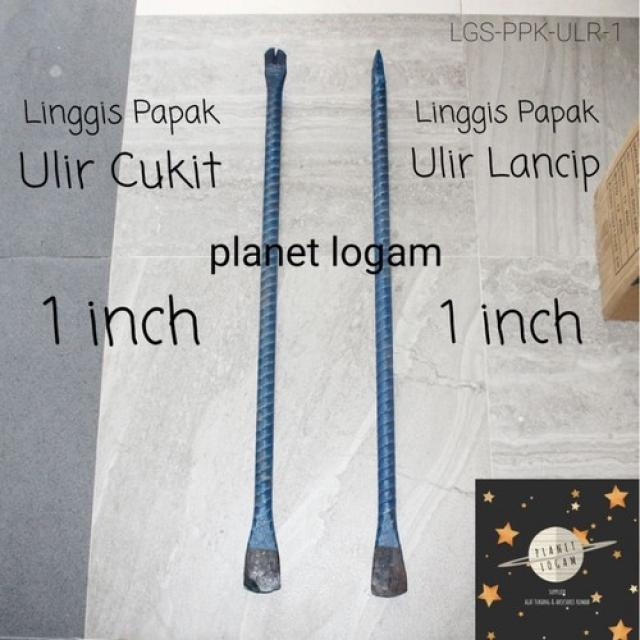Linggis: (246, 49, 297, 590)
